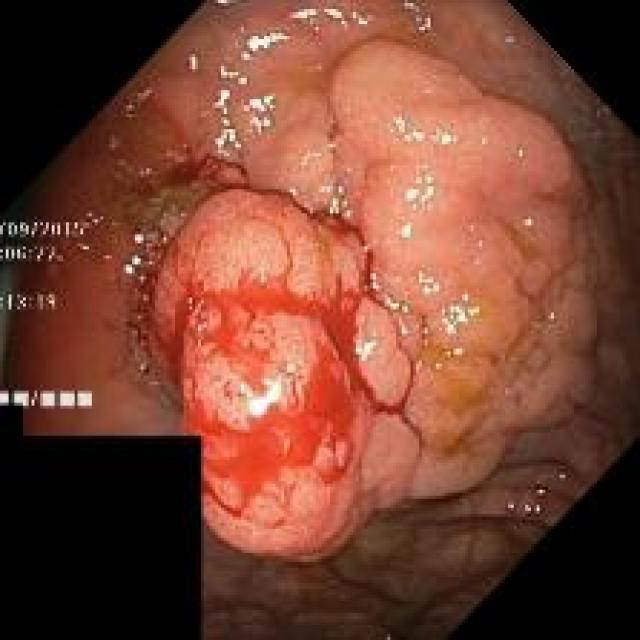Polyps: (126, 38, 601, 563)
